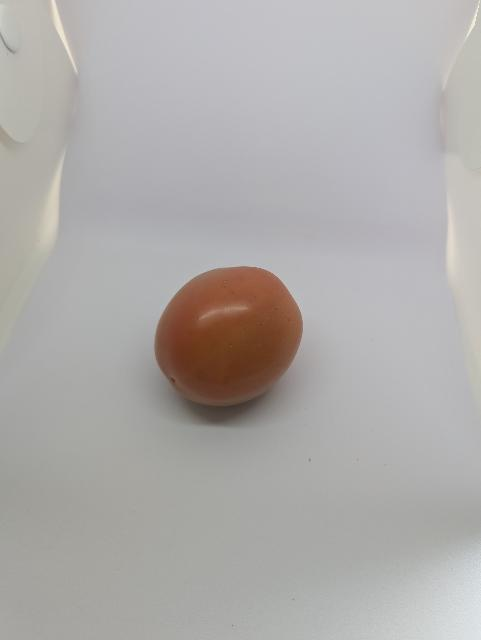turning: (151, 261, 317, 417)
